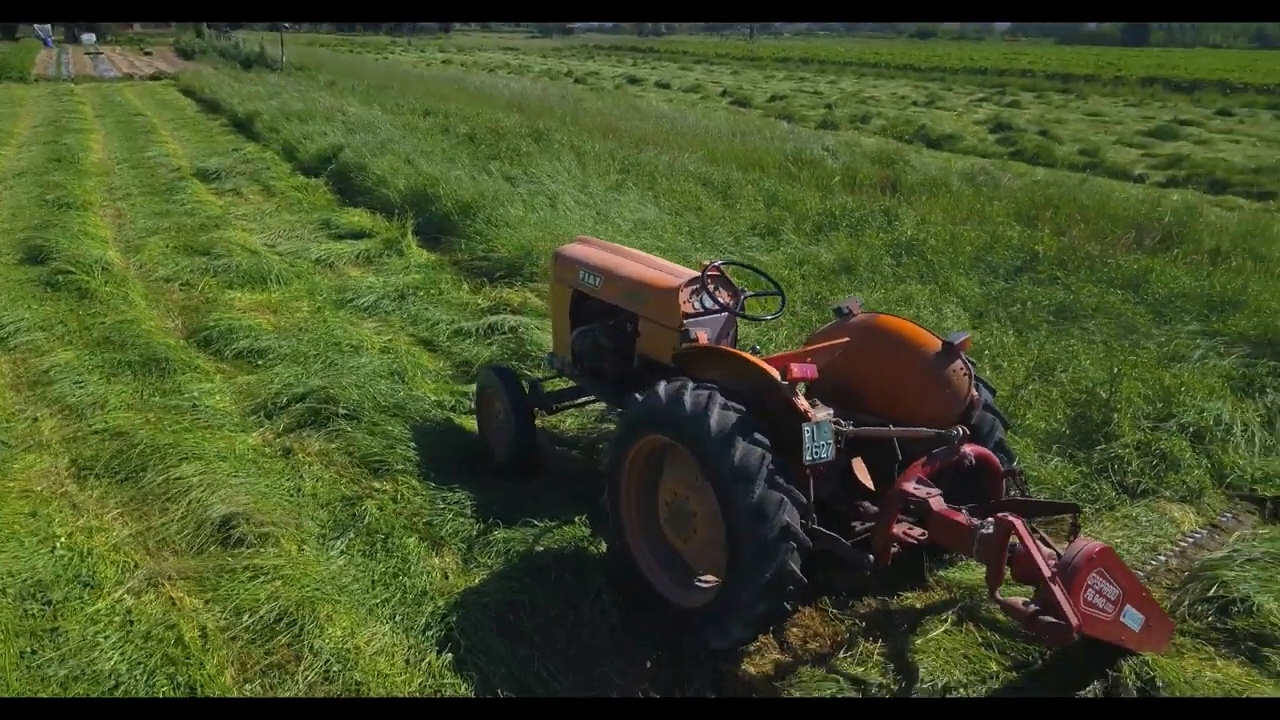traktor: (459, 233, 1018, 635)
